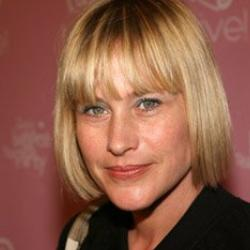face: (37, 2, 233, 211)
